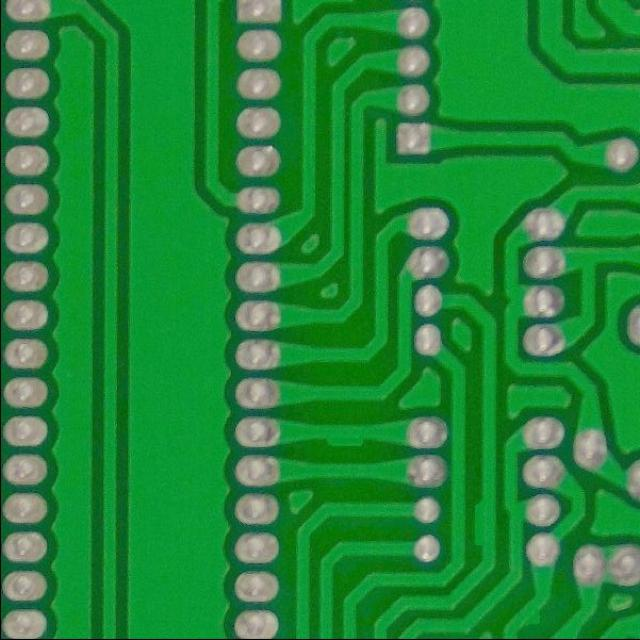spur: (466, 490, 502, 555), (318, 422, 368, 454), (516, 602, 552, 636)
